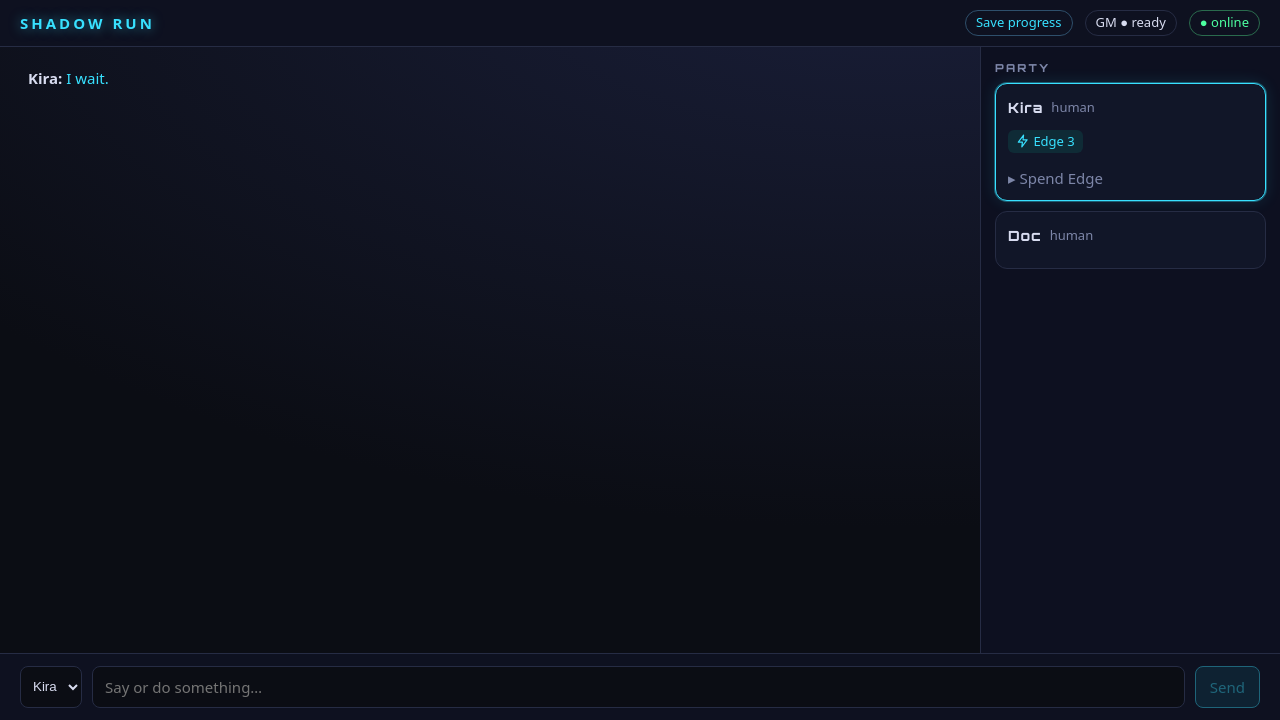
Test: the table screen › sessions › saves progress through the pill and the question, and shows the saving while it happens
Click the button "Save progress" at (1019,23), box [965,10,1072,36]
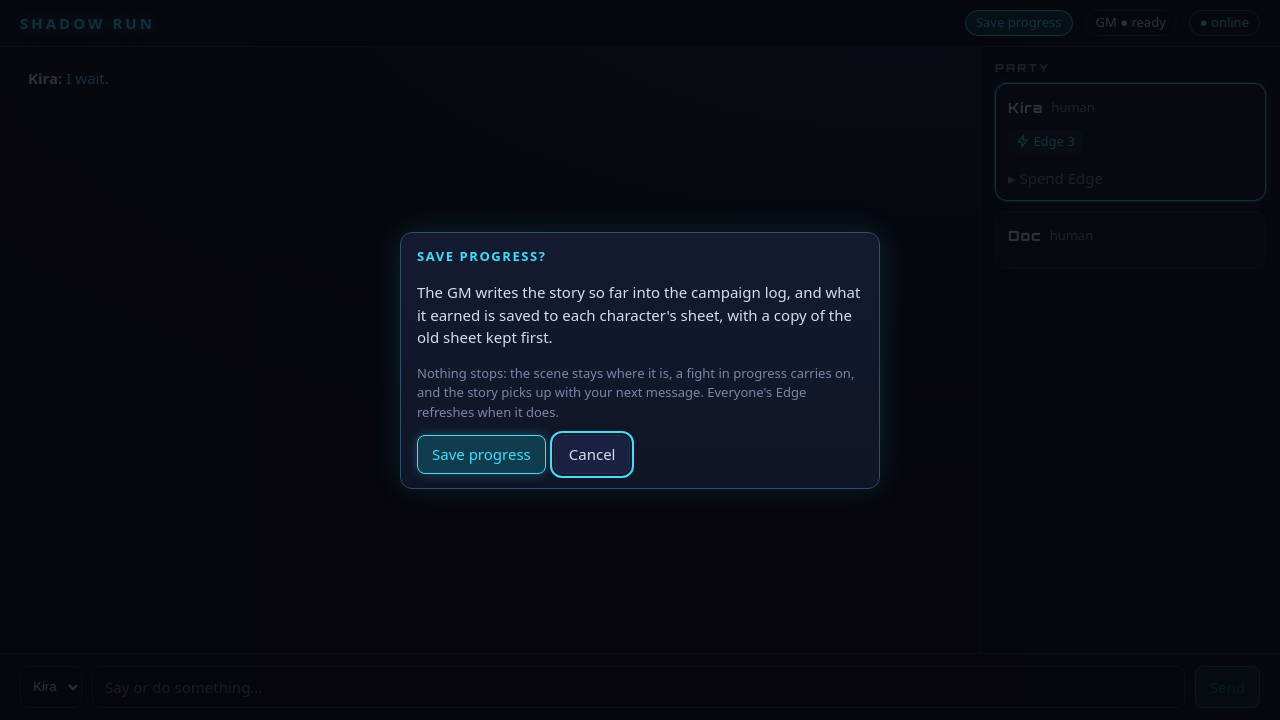
Result: the dialog "SAVE PROGRESS?" is shown
Click the button "Save progress" at (481,454), box [417,435,546,474]
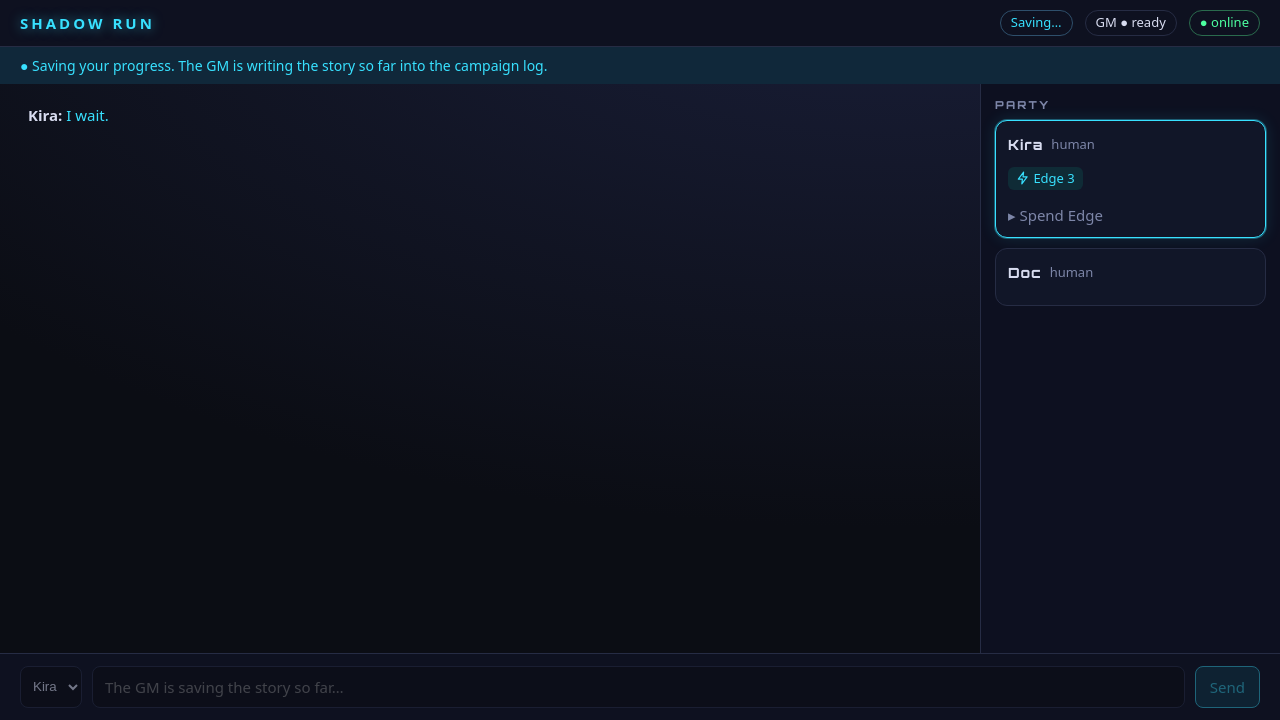
Result: the dialog is gone
Result: the text "Saving…" is shown at [1000,10,1072,36]
Result: the message shows "Saving your progress. The GM is writing the story so far into the campaign log." at [20,56,548,74]
